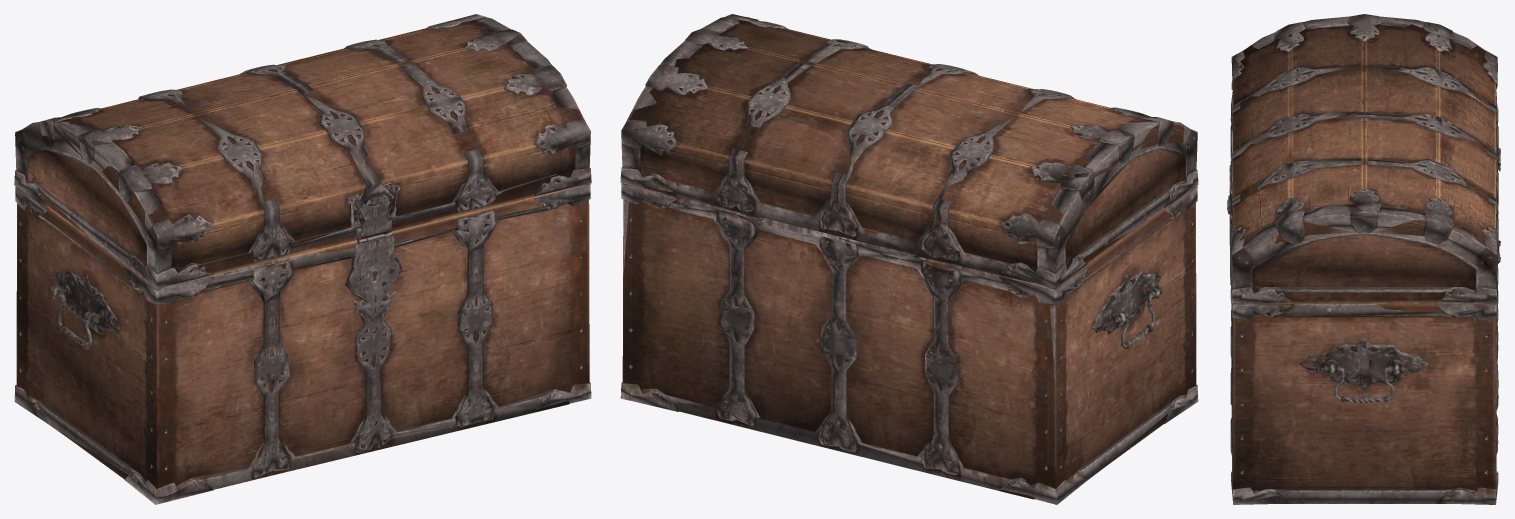
File: treasure_chest.glb
3 views of the same model, side by side, from view 1: azimuth 30°, elevation 25°; view 2: azimuth 150°, elevation 25°; view 3: azimuth 270°, elevation 25° (orthographic). The views are drawn at different scales.
Visible parts, largest first — view 1: treasure_chest_bottom, treasure_chest_lid, treasure_chest_lock, treasure_chest_handle_left; view 2: treasure_chest_bottom, treasure_chest_lid, treasure_chest_handle_left; view 3: treasure_chest_lid, treasure_chest_bottom, treasure_chest_handle_right.
Boxes of the visible parts, x1=… form: treasure_chest_bottom: x1=14, y1=183, x2=591, y2=504; treasure_chest_lid: x1=14, y1=14, x2=591, y2=289; treasure_chest_lock: x1=349, y1=233, x2=399, y2=323; treasure_chest_handle_left: x1=50, y1=286, x2=99, y2=349; treasure_chest_bottom: x1=620, y1=183, x2=1198, y2=504; treasure_chest_lid: x1=620, y1=14, x2=1198, y2=288; treasure_chest_handle_left: x1=1113, y1=286, x2=1162, y2=349; treasure_chest_lid: x1=1227, y1=14, x2=1500, y2=303; treasure_chest_bottom: x1=1230, y1=153, x2=1500, y2=504; treasure_chest_handle_right: x1=1321, y1=365, x2=1407, y2=402.
Bounding box in the file's own units: 0.959 × 0.6165 × 0.5222.
Materials: 1 (1 with a texture image).
